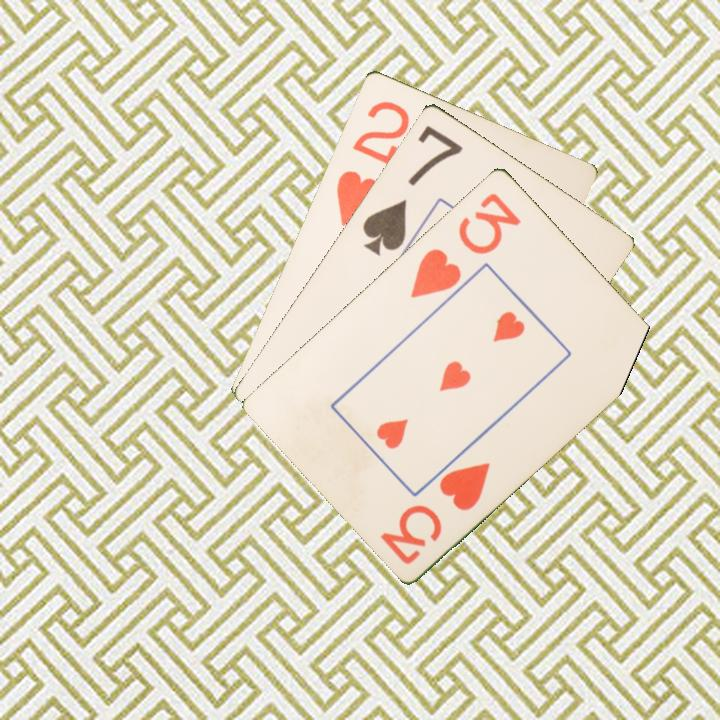2h: (332, 96, 413, 229)
3h: (406, 188, 524, 301), (376, 458, 494, 567)
7s: (358, 121, 466, 258)
